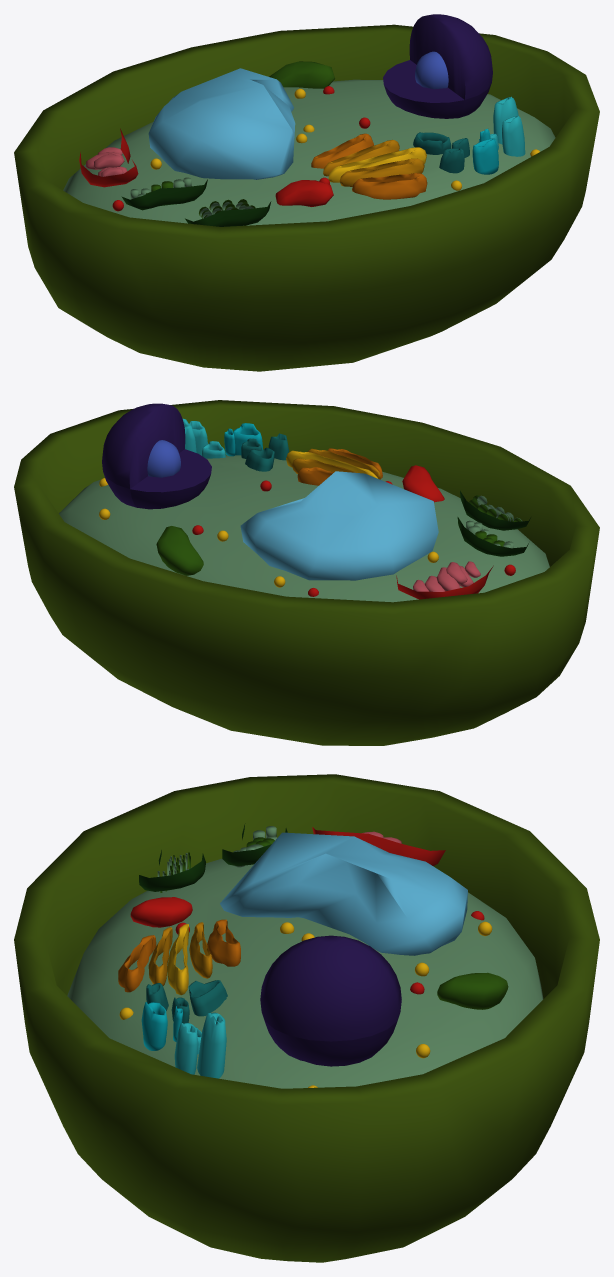
Rendered from plantcell.gltf.
3 views of the same model, one above another, from view 1: azimuth 30°, elevation 25°; view 2: azimuth 150°, elevation 25°; view 3: azimuth 270°, elevation 25° (orthographic). The views are drawn at different scales.
Visible parts, largest first — view 1: root; view 2: root; view 3: root.
Part boxes in pixels (<box>): root: <box>14,14,599,371</box>; root: <box>14,400,599,745</box>; root: <box>14,774,599,1262</box>.
Size of the model in its own units: 2.67 by 1.28 by 2.
